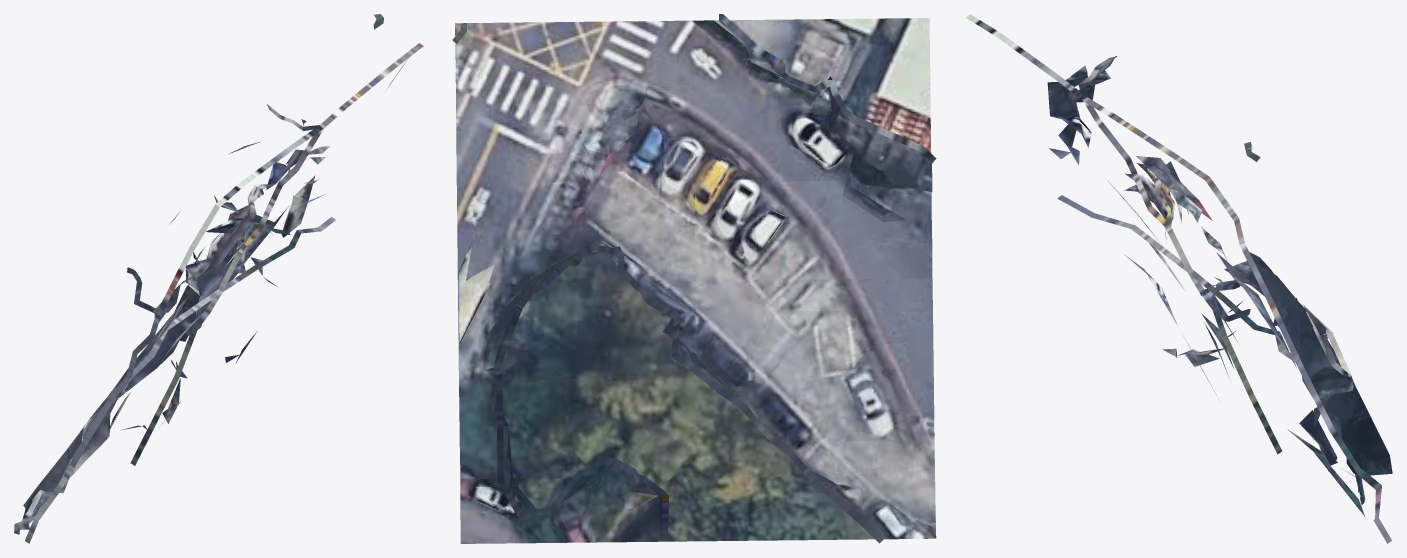
The picture shows the model from 3 angles, left to right: view 1: azimuth 30°, elevation 25°; view 2: azimuth 150°, elevation 25°; view 3: azimuth 270°, elevation 25°; orthographic projection. The views are drawn at different scales.
Size of the model in its own units: 39.36 by 36.66 by 32.48.
Materials: 1 (1 with a texture image).
